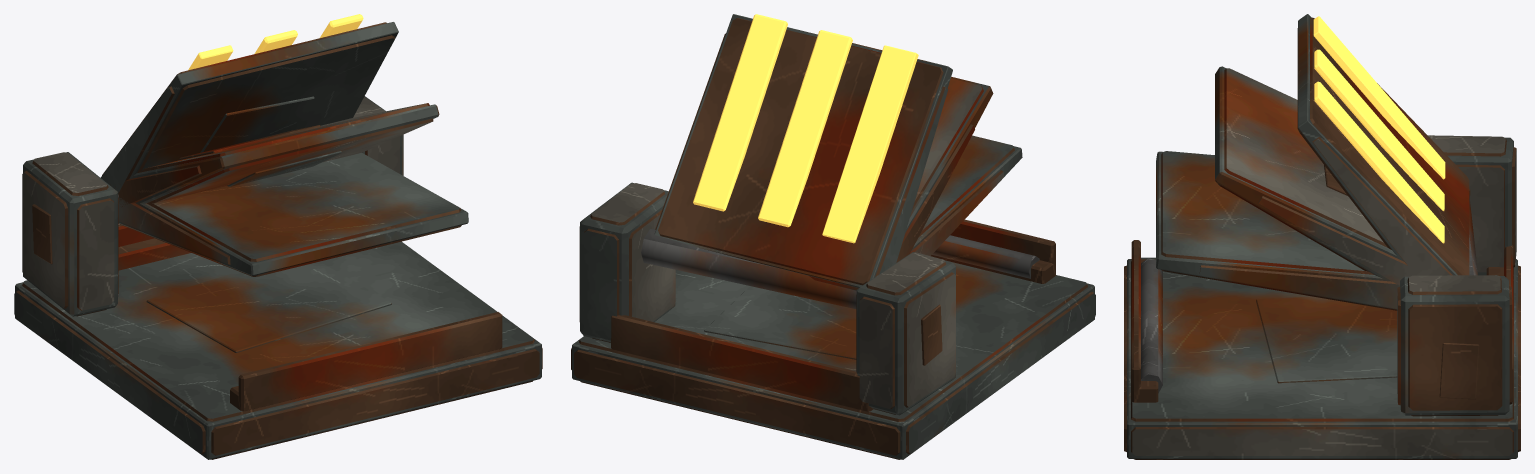
Rendered from R4X_RampDeployer.glb.
3 renders of one model, left to right at view 1: azimuth 30°, elevation 25°; view 2: azimuth 150°, elevation 25°; view 3: azimuth 270°, elevation 25°, orthographic.
Visible parts, largest first — view 1: R4X_RampDeployer_Body; view 2: R4X_RampDeployer_Body; view 3: R4X_RampDeployer_Body.
Part boxes in pixels (x1,y1,x2,y2): R4X_RampDeployer_Body: [14, 14, 542, 459]; R4X_RampDeployer_Body: [571, 14, 1095, 459]; R4X_RampDeployer_Body: [1124, 14, 1520, 459].
Bounding box in the file's own units: 0.52 × 0.4678 × 0.52.
5 materials, 4 textured.
